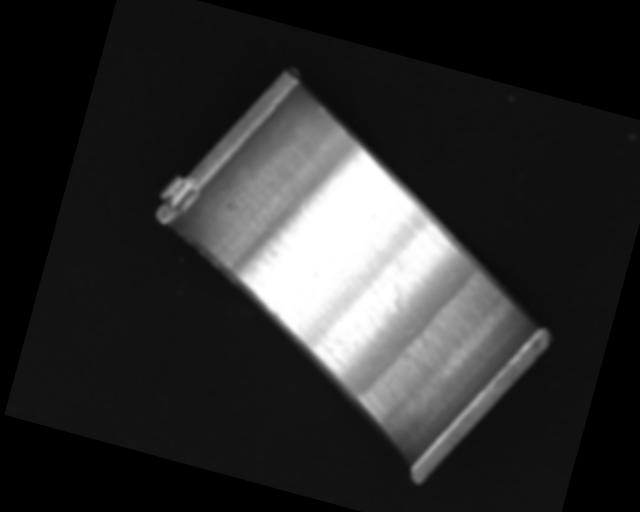nick: (311, 104, 324, 119)
